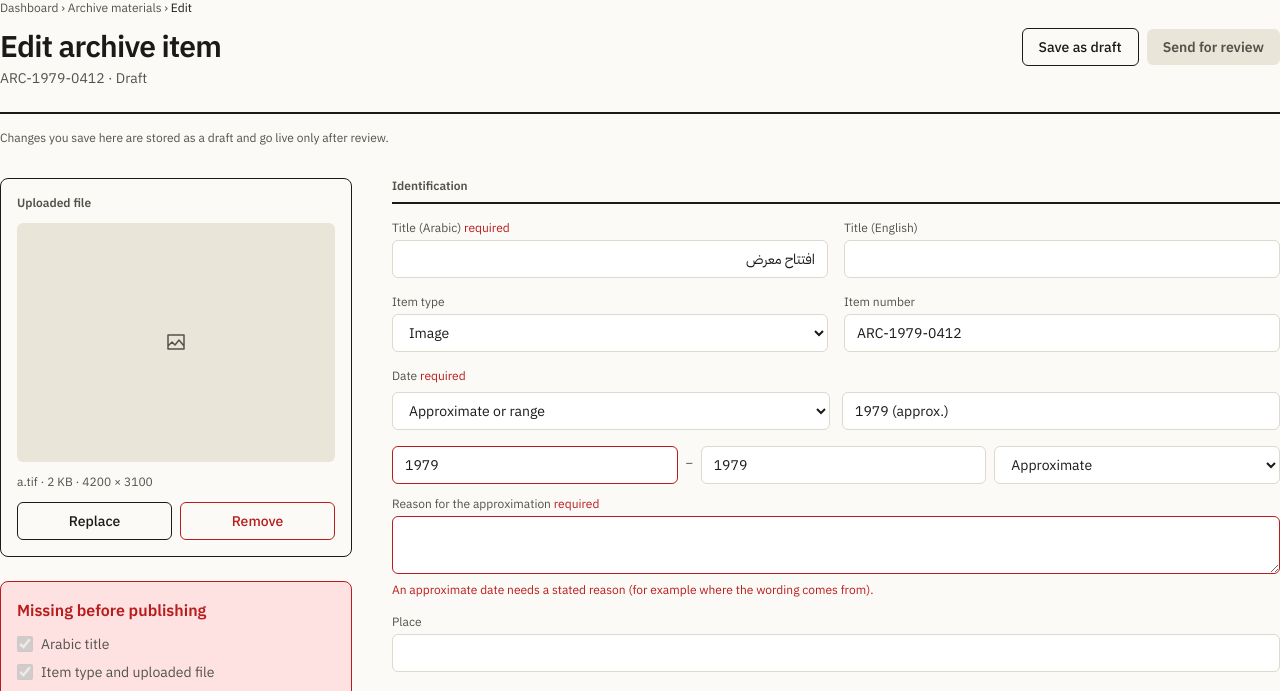
it: ArchiveEditPage (edit) › draft mode (proposals.submit) › sends the draft for review and flips the banner to awaiting review
The image size is (1280, 691).
Click the button with test id "save-draft" at (1080, 47), box [1022,28,1139,66]
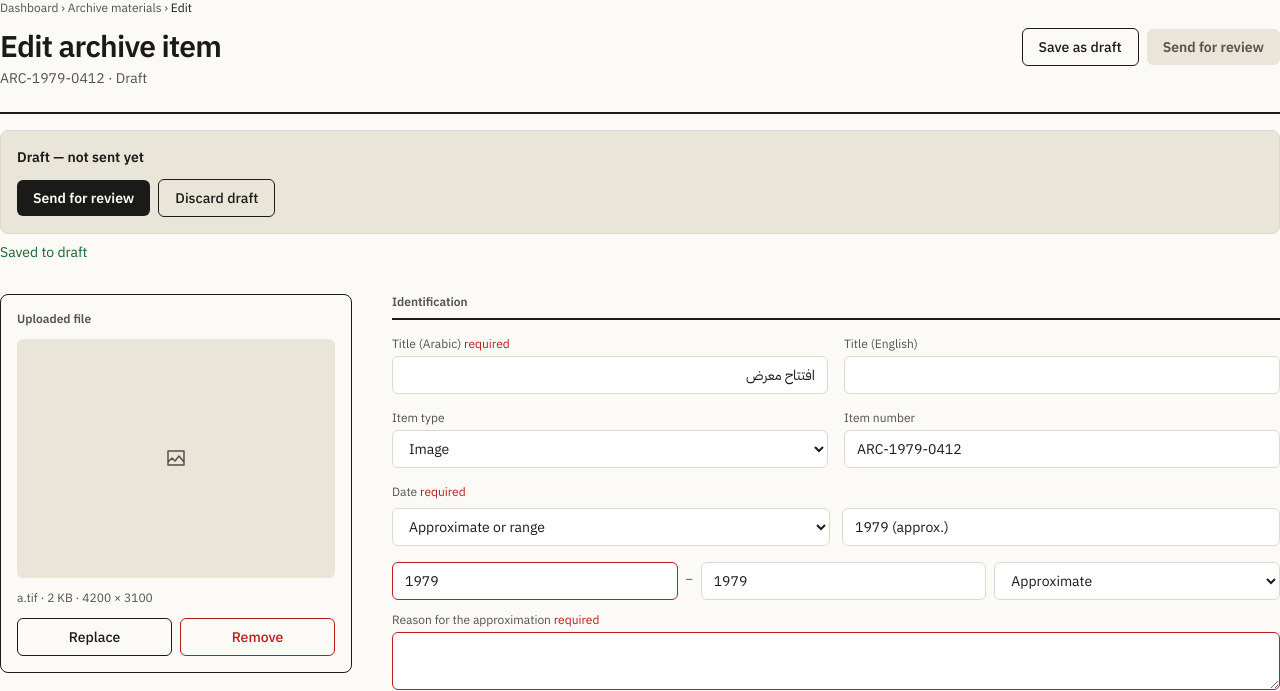
Click the button with test id "send-for-review" at (84, 198), box [17,180,150,216]
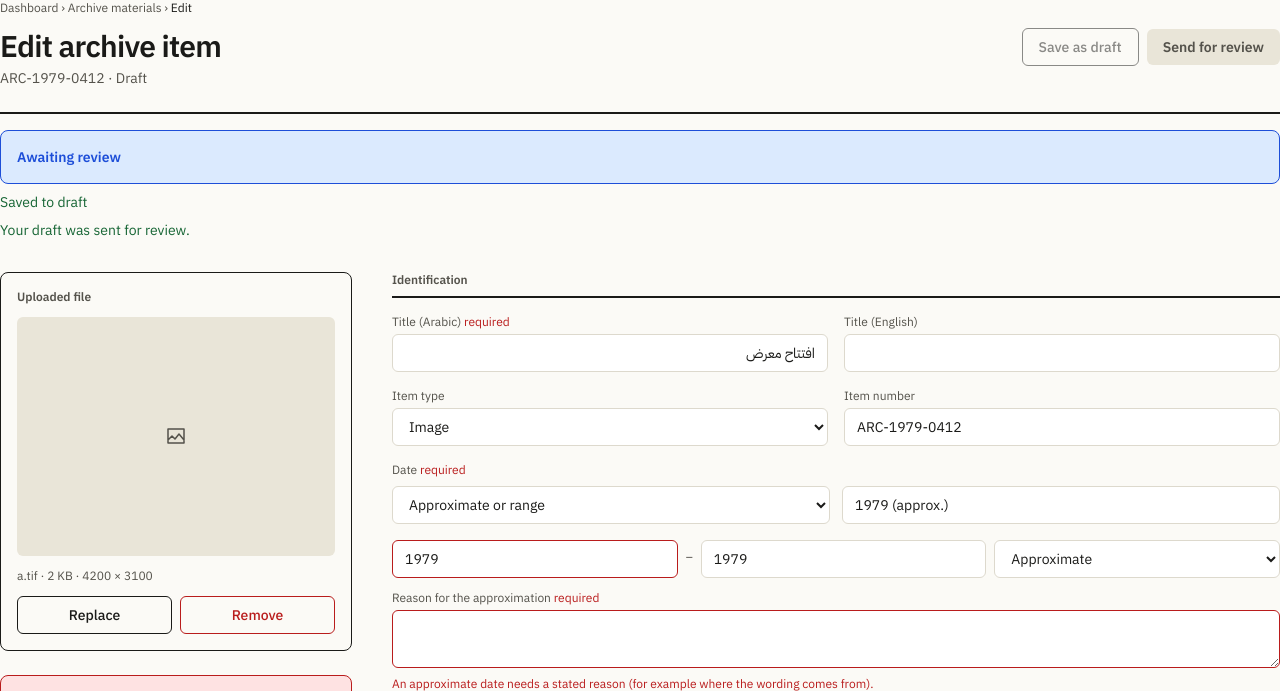
Check: the text with test id "draft-notice" reads "Your draft was sent for review.", box [0,221,190,239]
